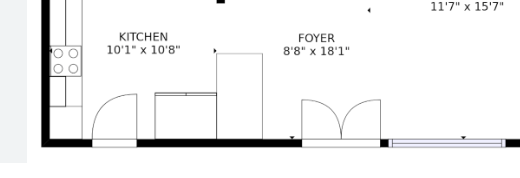door: (297, 96, 384, 151), (87, 88, 146, 150)
